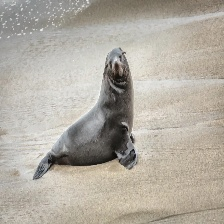seal: (32, 47, 139, 179)
